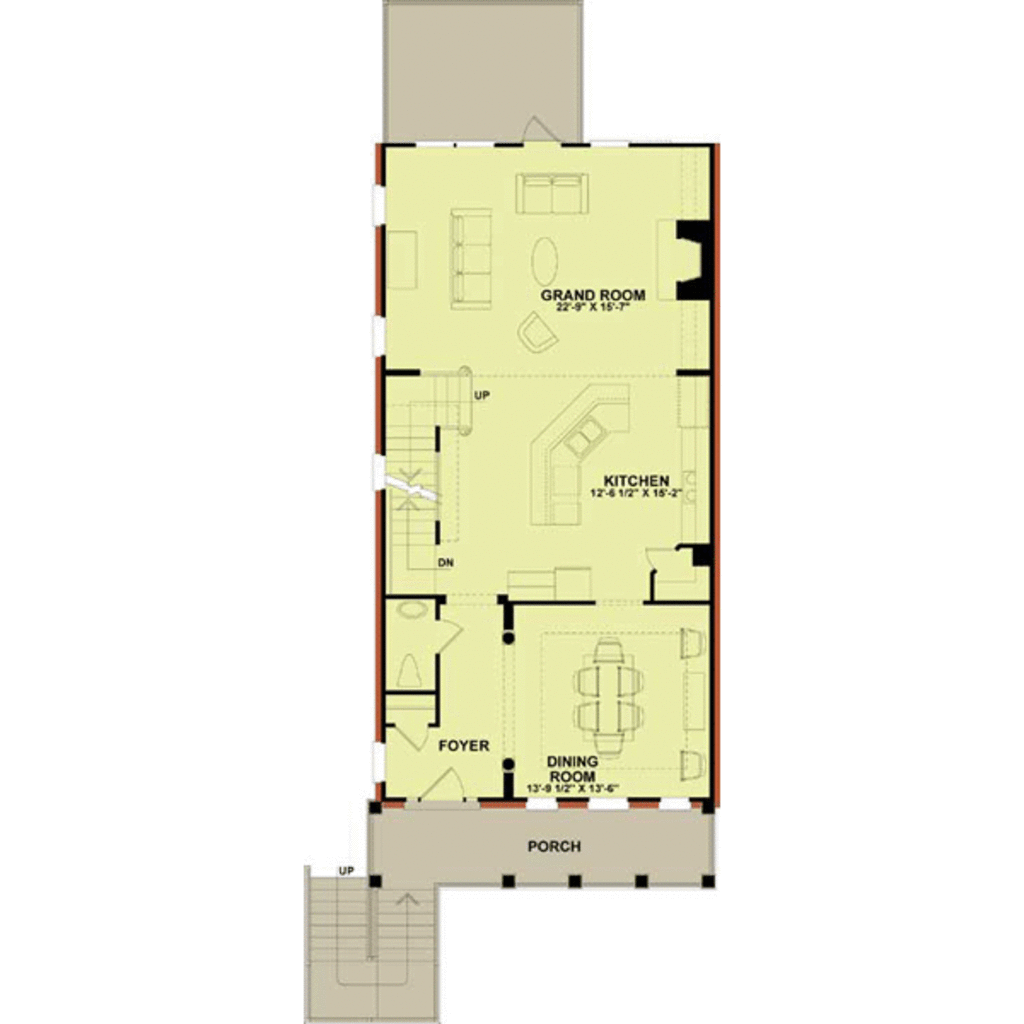dining_table: (574, 638, 651, 764)
door: (518, 110, 570, 149), (413, 768, 465, 806)
kitchen_bar: (529, 381, 630, 529)
large_sofa: (445, 206, 496, 316), (513, 167, 590, 216)
stairs: (379, 367, 484, 592), (302, 864, 439, 1022)
